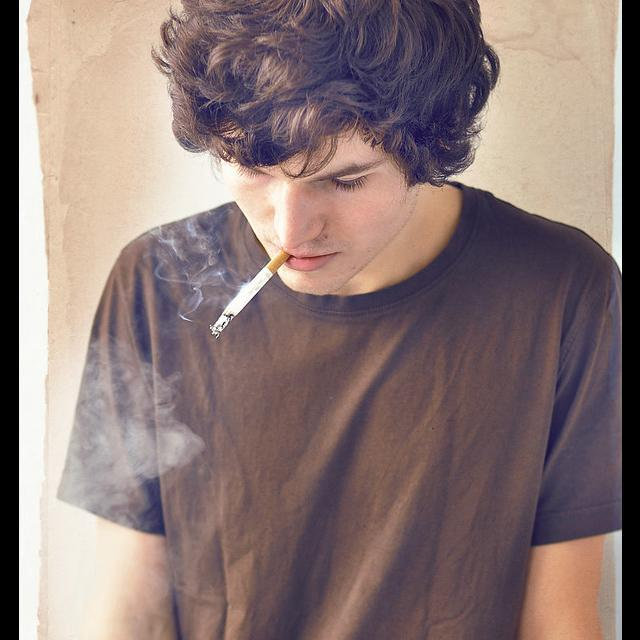rokok: (200, 246, 300, 338)
